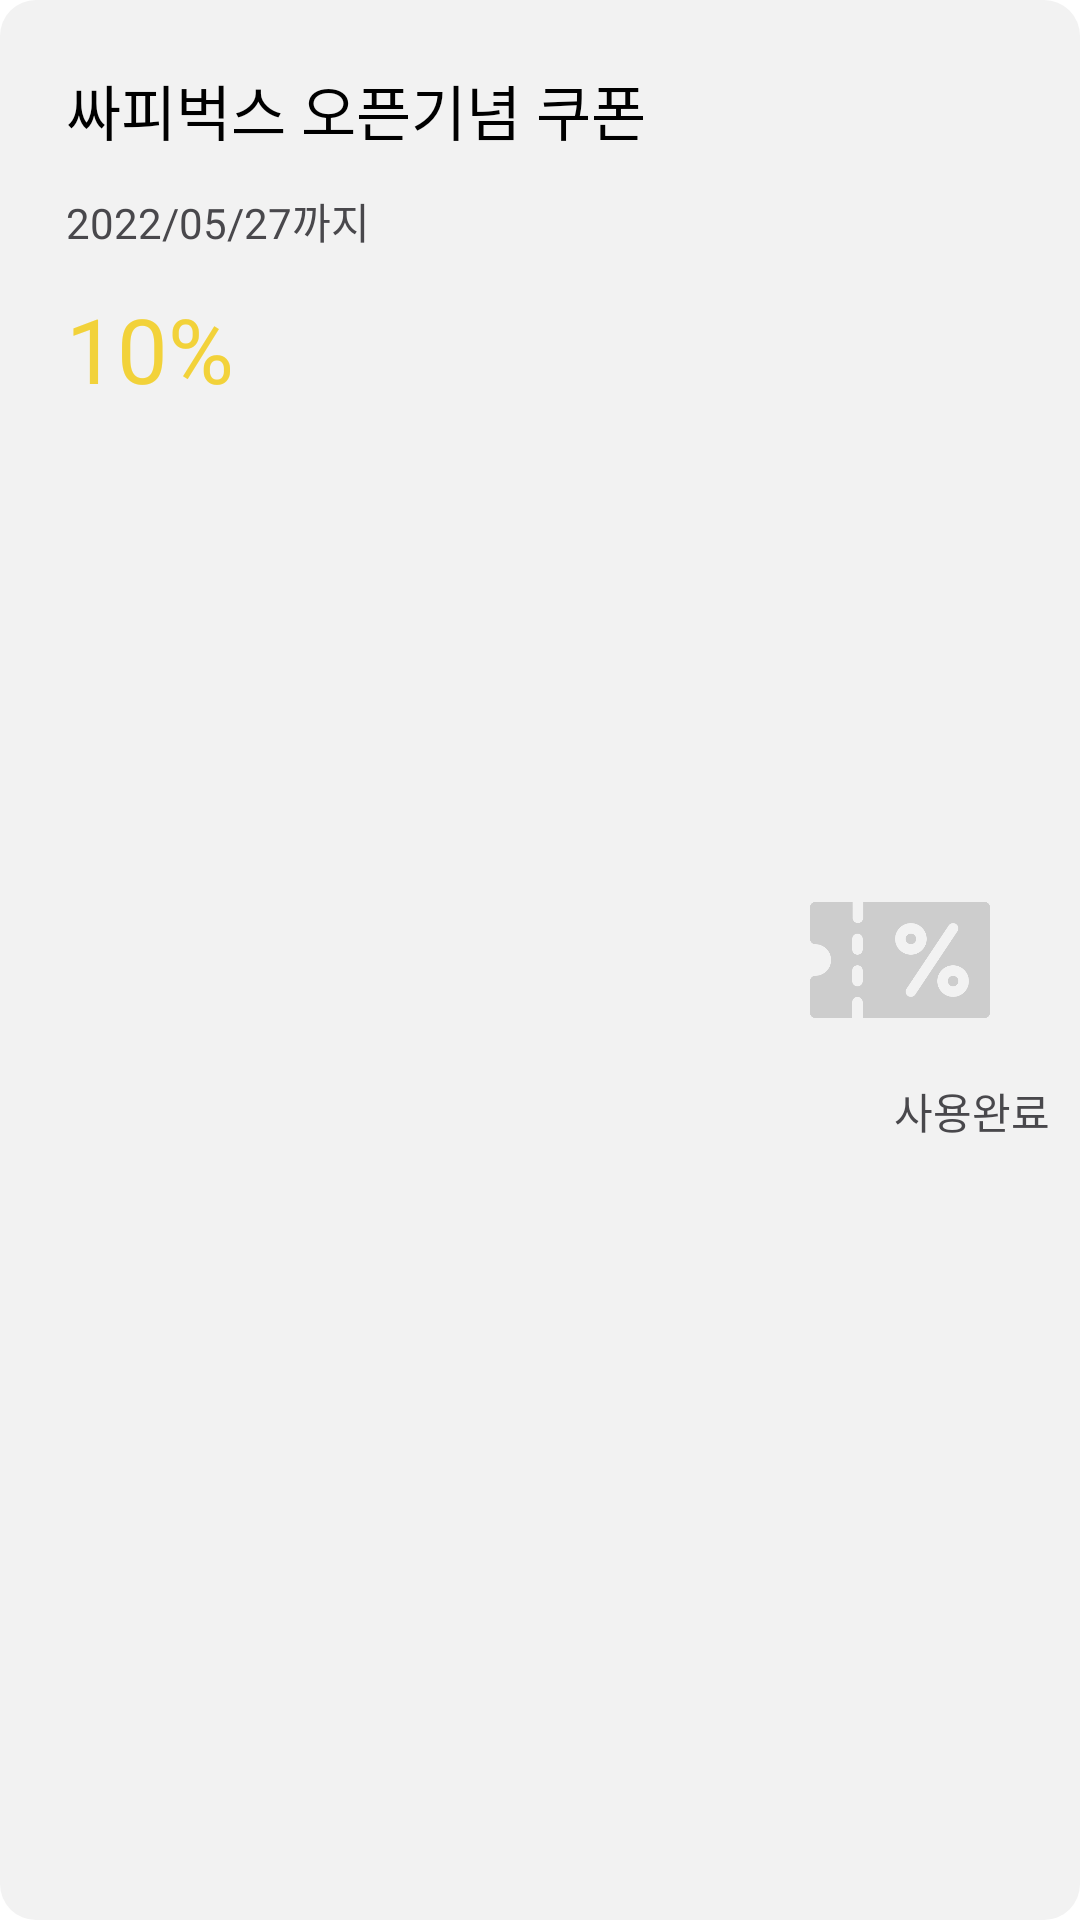

Named icons in this screenshot (1080×1920) and their bounding boxes, bbox=(x1, y1, x2, y2):
coupon: bbox=(810, 902, 990, 1018)
